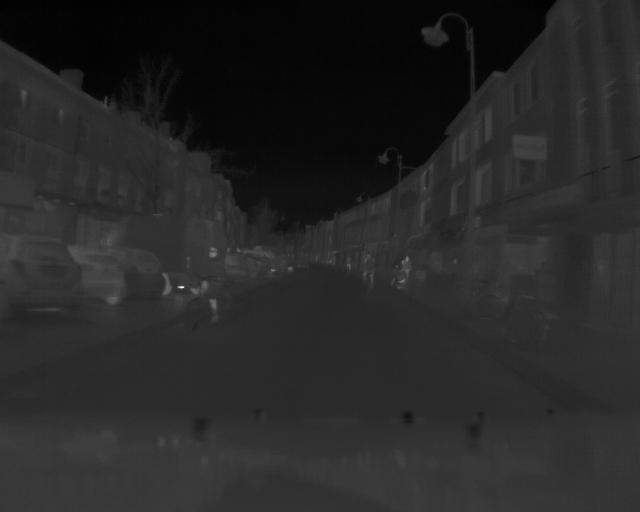car: (1, 231, 83, 317), (41, 248, 130, 308), (84, 249, 174, 303)
person: (201, 242, 223, 331), (398, 251, 413, 291), (360, 253, 373, 293)
